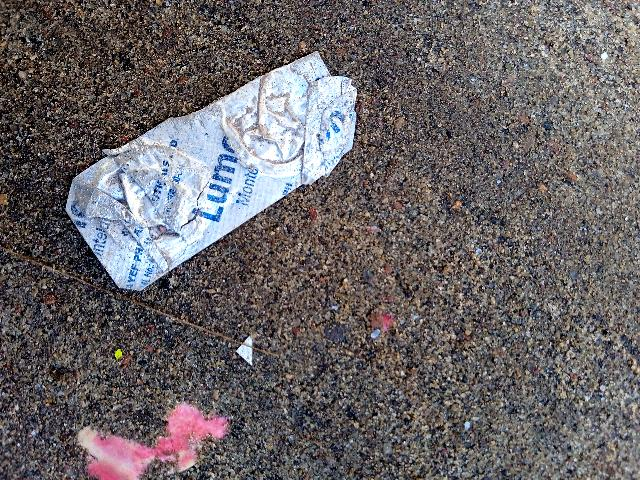medicine: (64, 42, 375, 291)
